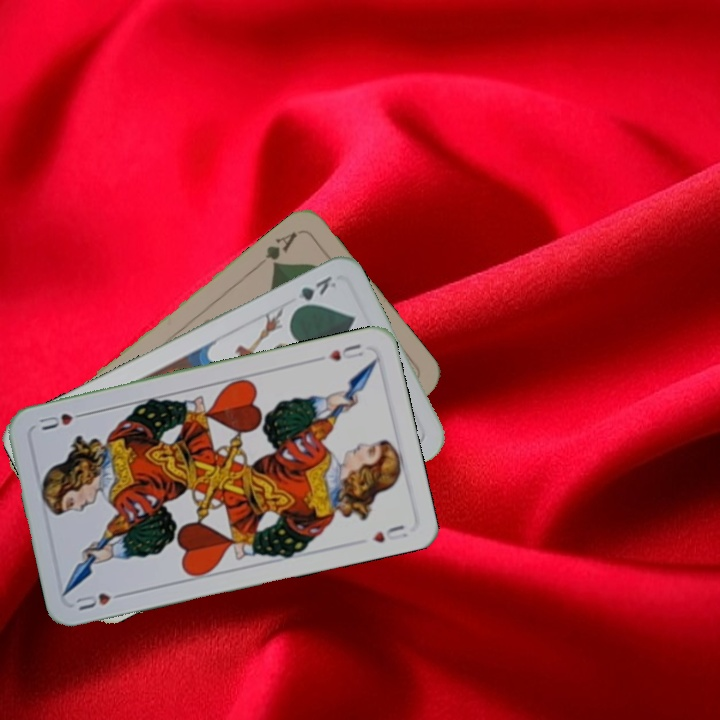GA: (260, 227, 300, 270)
GK: (289, 271, 339, 314)
HU: (72, 588, 129, 613), (313, 339, 366, 364)
